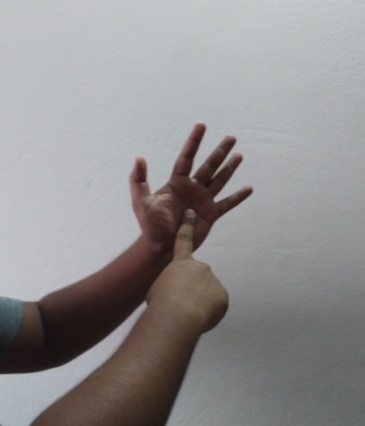oo: (126, 122, 254, 327)
